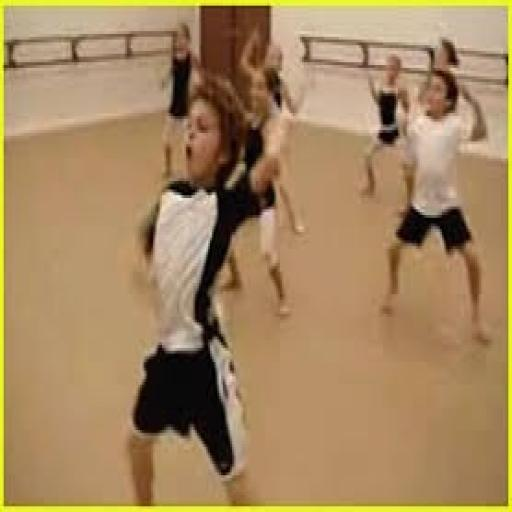dancing: (376, 54, 495, 348)
